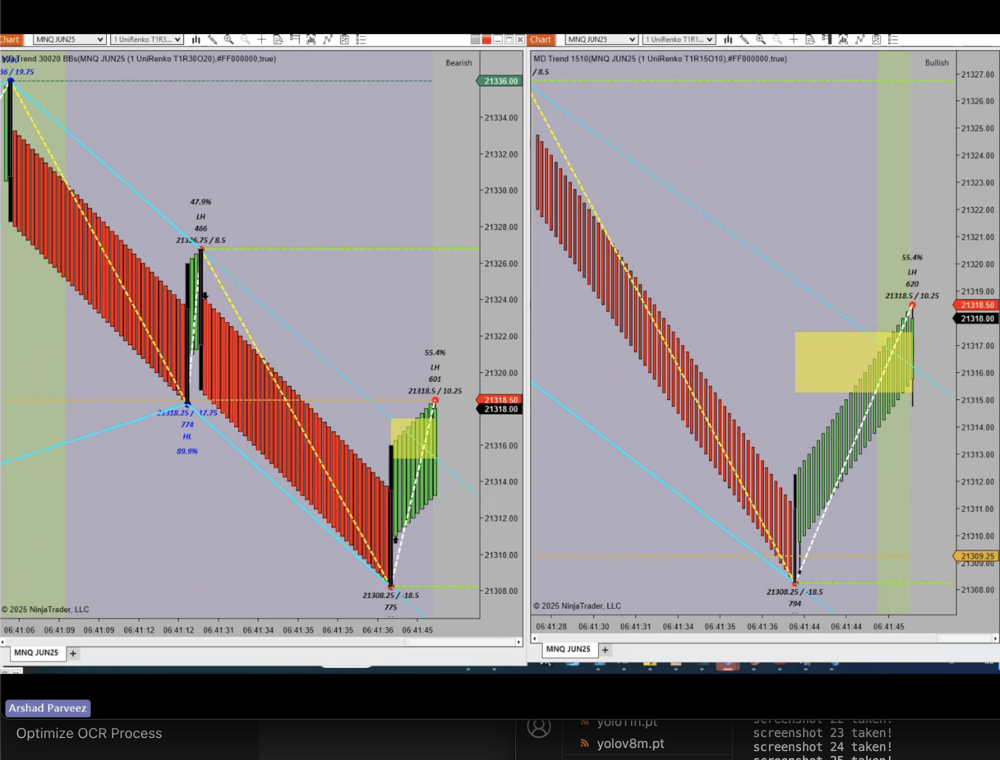HL: (176, 429, 199, 449)
LH: (423, 359, 448, 375), (193, 207, 210, 223), (903, 265, 922, 279)
